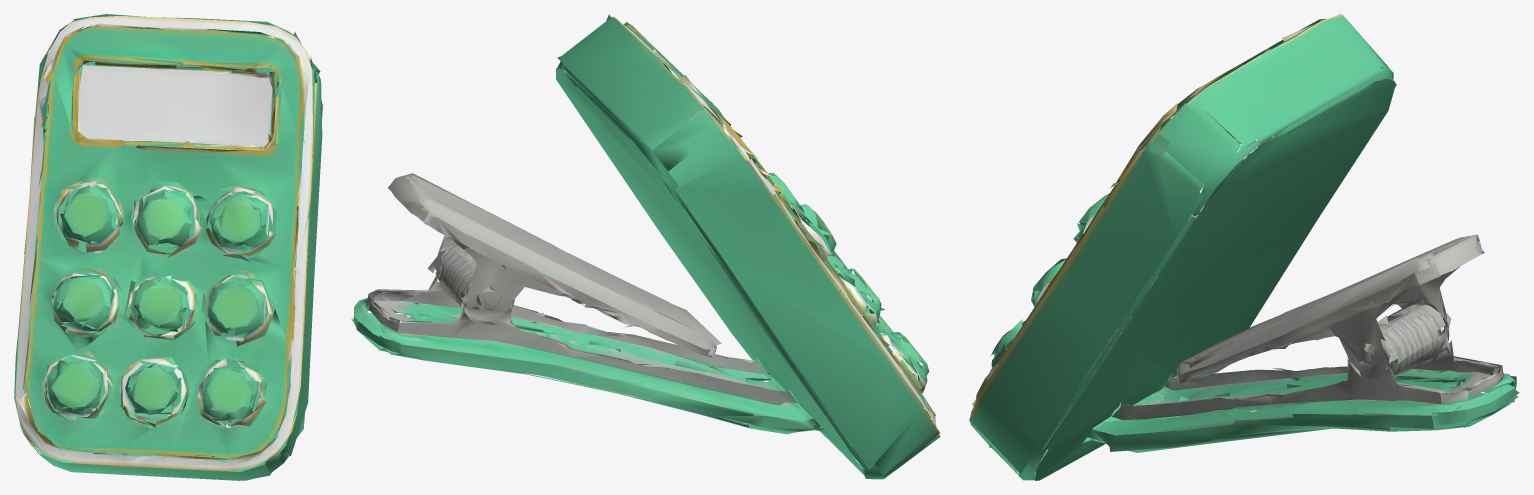
File: gear_treasurer_hair.glb
3 views of the same model, side by side, from view 1: azimuth 30°, elevation 25°; view 2: azimuth 150°, elevation 25°; view 3: azimuth 270°, elevation 25° (orthographic). The views are drawn at different scales.
Visible parts, largest first — view 1: gear_treasurer_hair; view 2: gear_treasurer_hair; view 3: gear_treasurer_hair.
Boxes of the visible parts, x1=… form: gear_treasurer_hair: x1=14, y1=14, x2=322, y2=480; gear_treasurer_hair: x1=351, y1=14, x2=940, y2=479; gear_treasurer_hair: x1=969, y1=14, x2=1519, y2=480.
Bounding box in the file's own units: 0.5557 × 0.5022 × 0.5608.
Materials: 1 (1 with a texture image).
